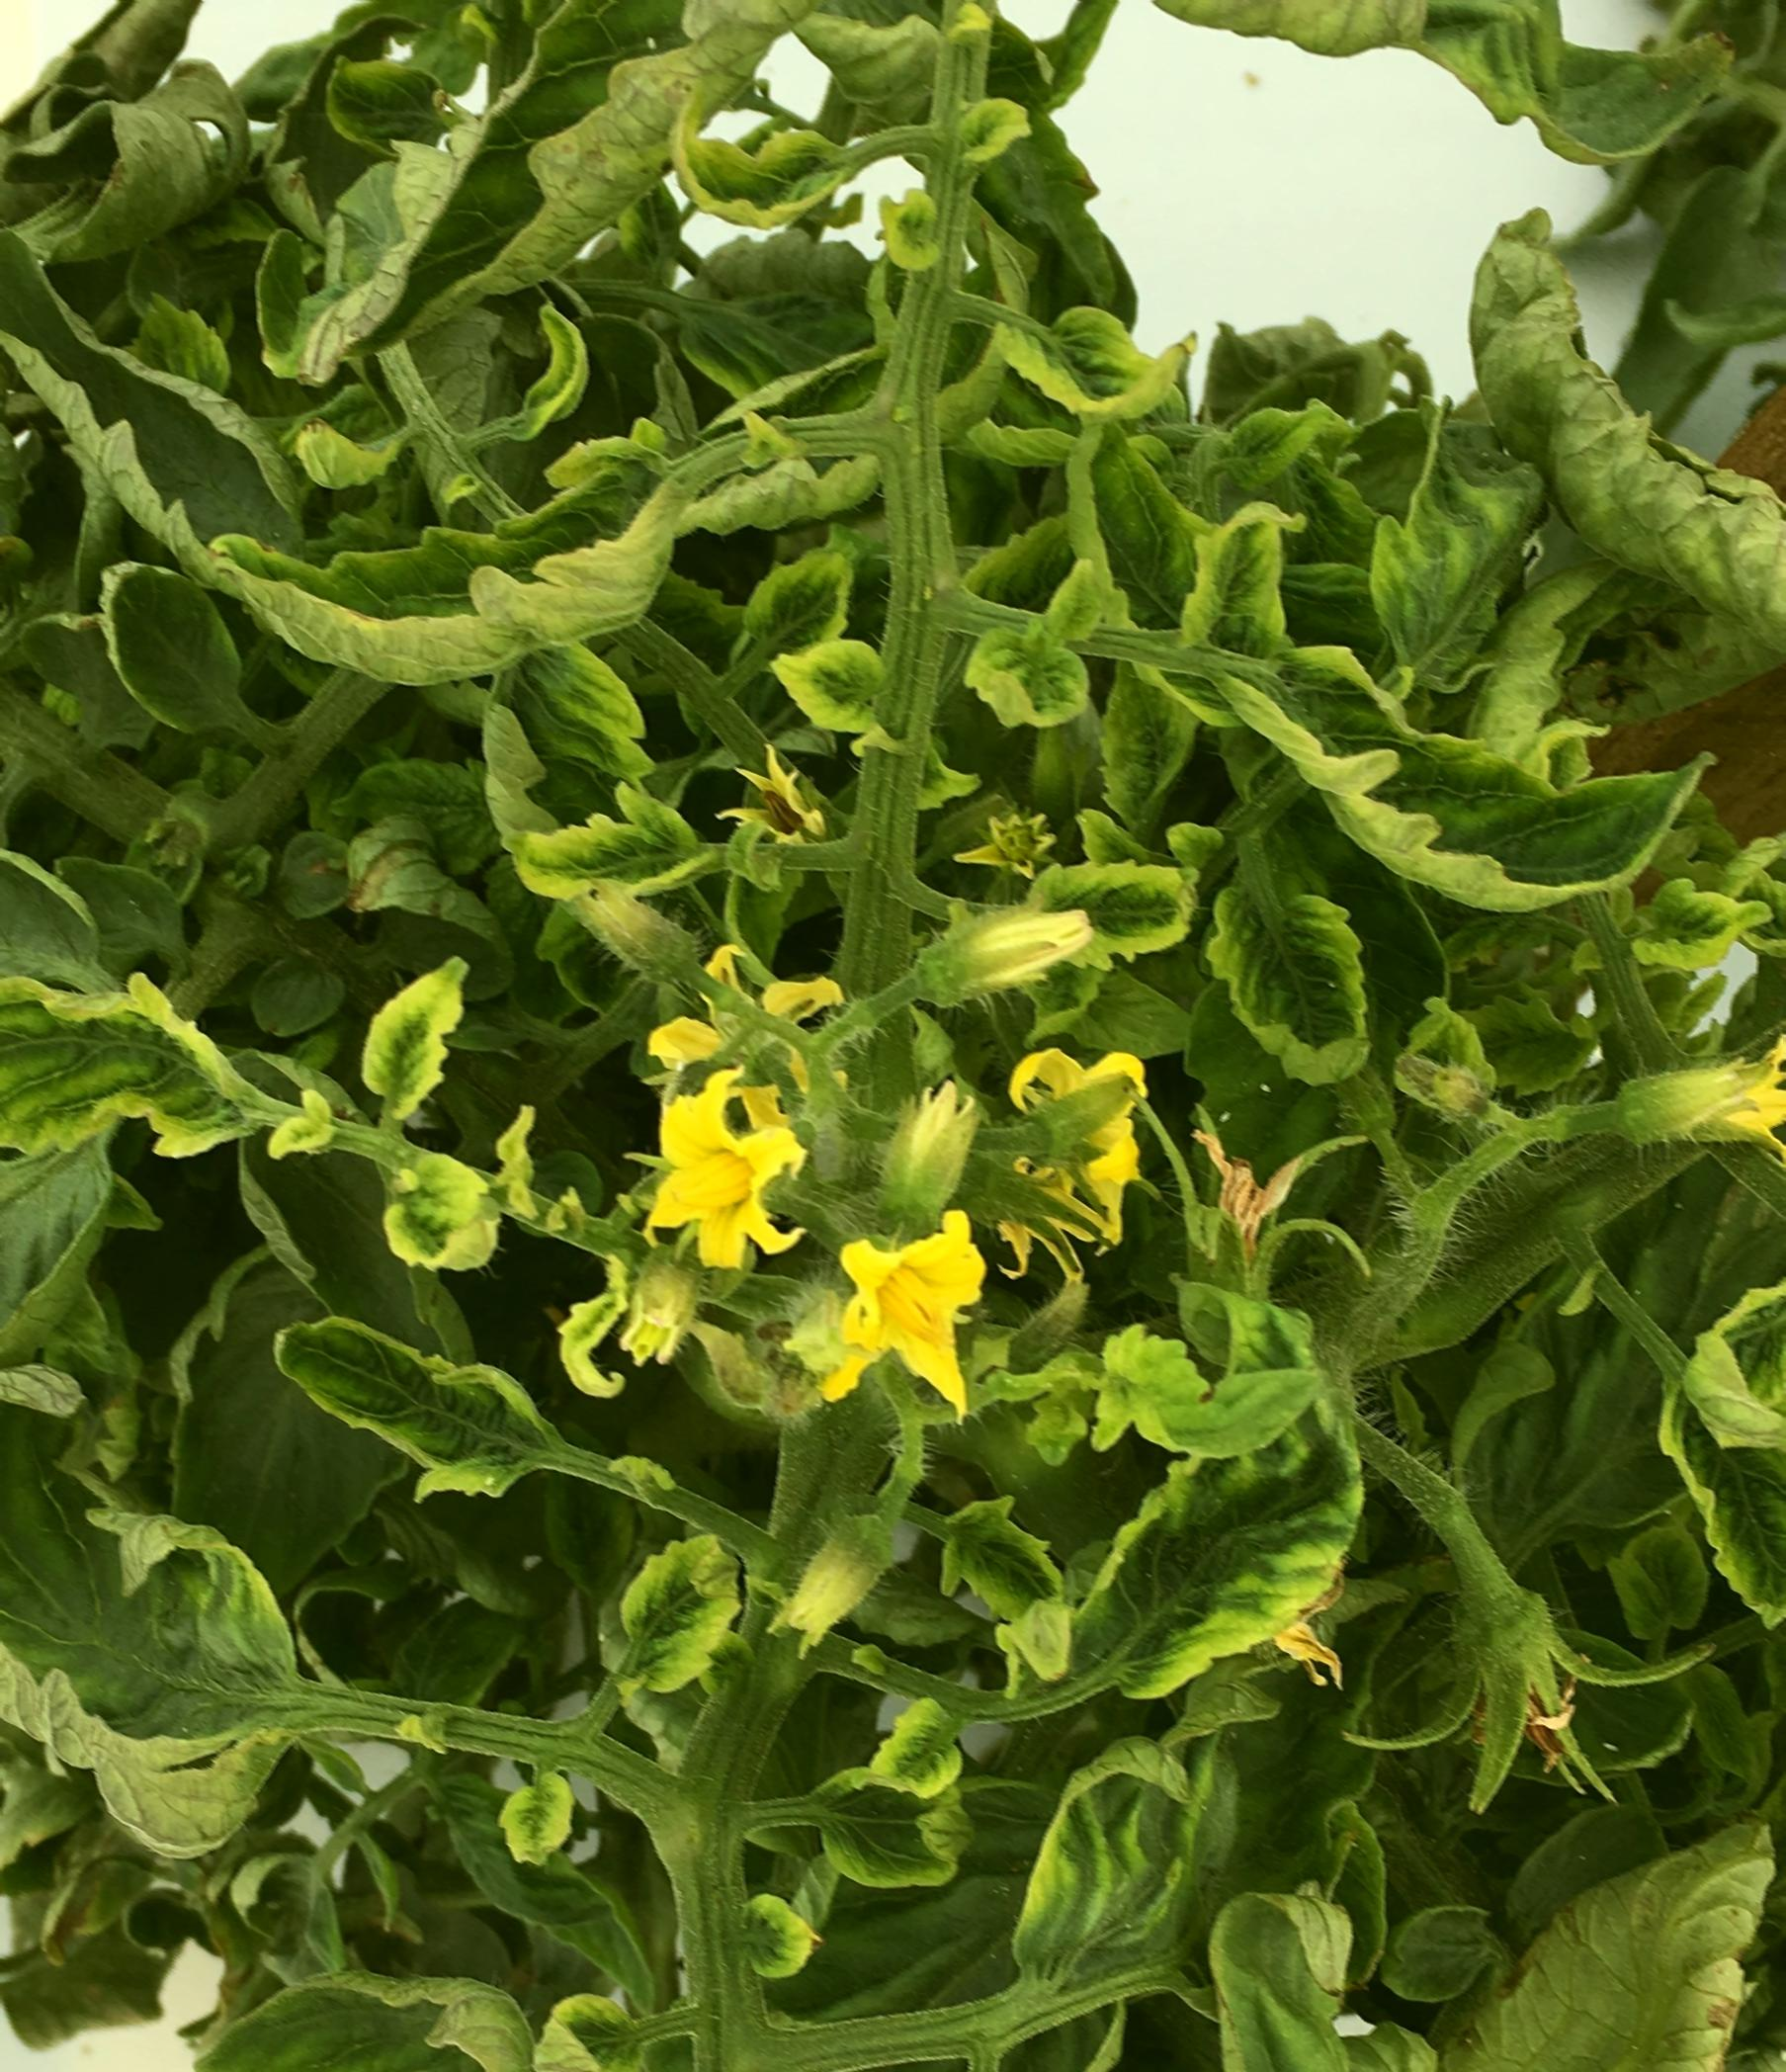Tomato leaf yellow virus: (54, 350, 841, 674), (1160, 502, 1718, 938), (0, 1314, 334, 1919), (1015, 1271, 1405, 1727), (973, 1615, 1379, 1997), (0, 926, 305, 1302), (1649, 1264, 1786, 1673), (1191, 845, 1412, 1084)
